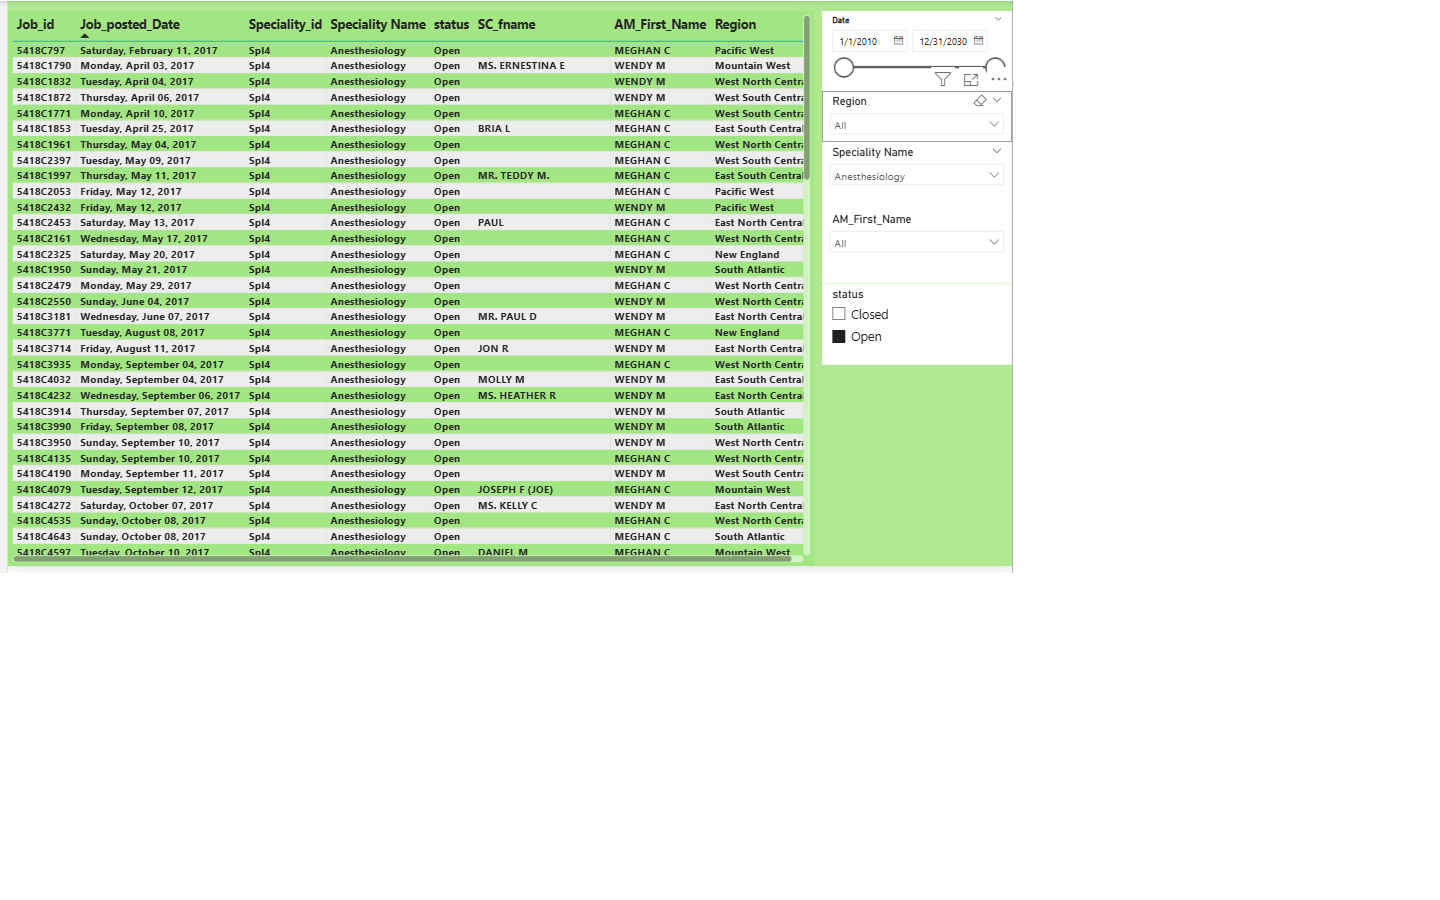

This screenshot's page, from the dashboard's own definition file:
{"tool":"powerbi","page":{"name":"Page 4","canvas":[1280,720],"ordinal":3},"visuals":[{"type":"tableEx","fields":{"Values":["Jobs and Closure.Job_id","Jobs and Closure.Job_posted_Date","Jobs and Closure.Speciality_id","Speciality.Speciality Name","Jobs and Closure.status ","Sales Consultant.SC_fname","Account Mangaer.AM_First_Name","Region.Region"]},"box":[0,12.3,1028.3,707.5],"z":0},{"type":"slicer","fields":{"Values":["CalendarTable.Date"]},"box":[1037.5,12.3,242.5,102.8],"z":1000},{"type":"slicer","fields":{"Values":["State.Region"]},"box":[1037.5,115.1,242.5,64.5],"z":2000},{"type":"slicer","fields":{"Values":["Speciality.Speciality Name"]},"box":[1037.5,179.6,242.5,85.9],"z":3000},{"type":"slicer","fields":{"Values":["Account Mangaer.AM_First_Name"]},"box":[1037.5,265.5,242.5,95.2],"z":4000},{"type":"slicer","fields":{"Values":["Jobs and Closure.status "]},"box":[1037.5,360.7,242.5,102.8],"z":5000}]}

Visuals, with their boxes on the page's 1280x720 design canvas (x1, y1, x2, y2). These are canvas units, not pixel positions in the 1440x900 screenshot, which may show the page scaled, cropped or inside an application window:
tableEx - Jobs and Closure.Job_id x Jobs and Closure.Job_posted_Date: 0,12,1028,720
slicer - CalendarTable.Date: 1038,12,1280,115
slicer - State.Region: 1038,115,1280,180
slicer - Speciality.Speciality Name: 1038,180,1280,266
slicer - Account Mangaer.AM_First_Name: 1038,266,1280,361
slicer - Jobs and Closure.status : 1038,361,1280,464
